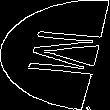M_E: (6, 28, 104, 82)
